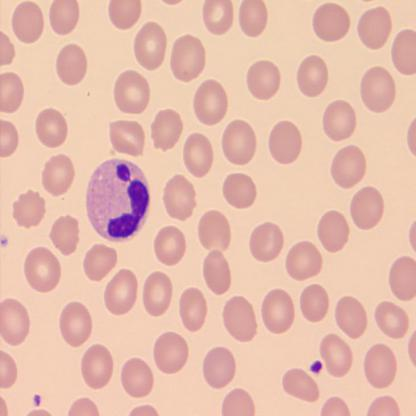Segmented neutrophil: (83, 156, 152, 244)
